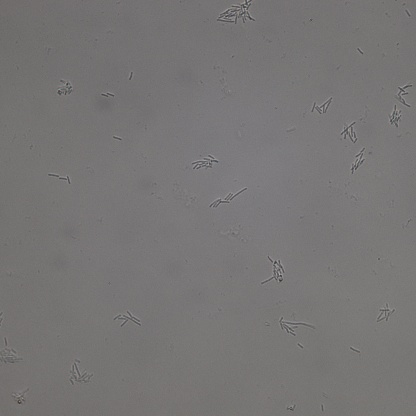R(colony): (217, 1, 255, 24), (210, 187, 246, 208), (279, 317, 316, 336), (1, 336, 23, 366), (263, 255, 285, 283), (69, 360, 93, 383), (113, 311, 142, 326), (192, 155, 219, 171), (396, 83, 412, 108), (341, 120, 358, 142), (377, 303, 395, 323), (311, 97, 332, 114), (351, 148, 365, 173), (388, 104, 402, 128), (57, 78, 73, 96)
